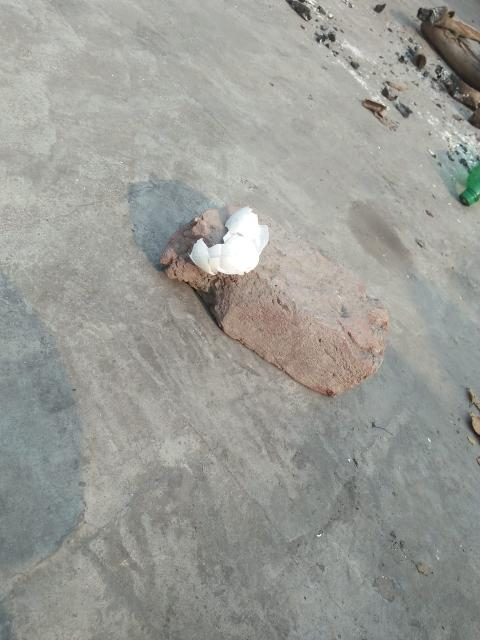Roto: (188, 205, 269, 276)
